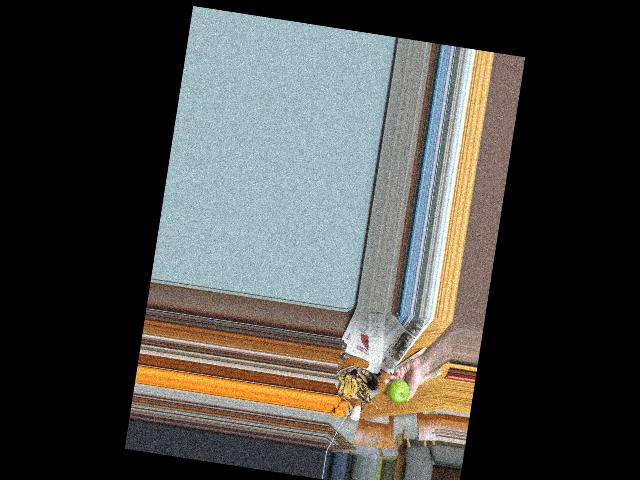apple: (385, 377, 412, 404)
